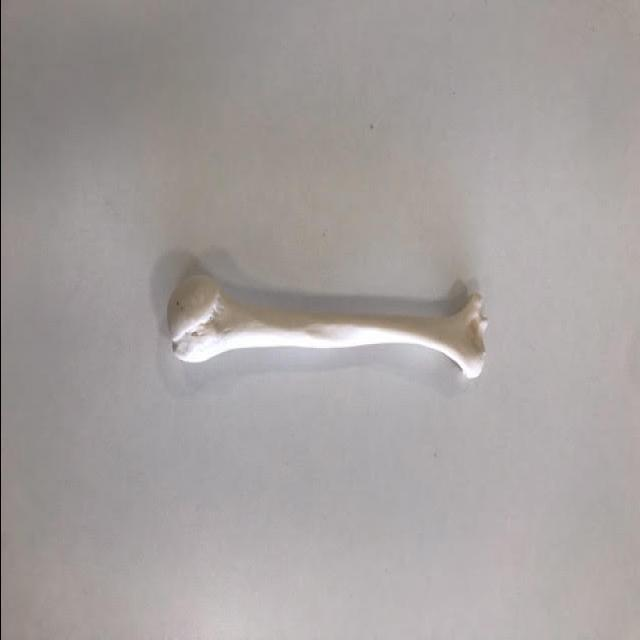bone: (160, 263, 493, 387)
